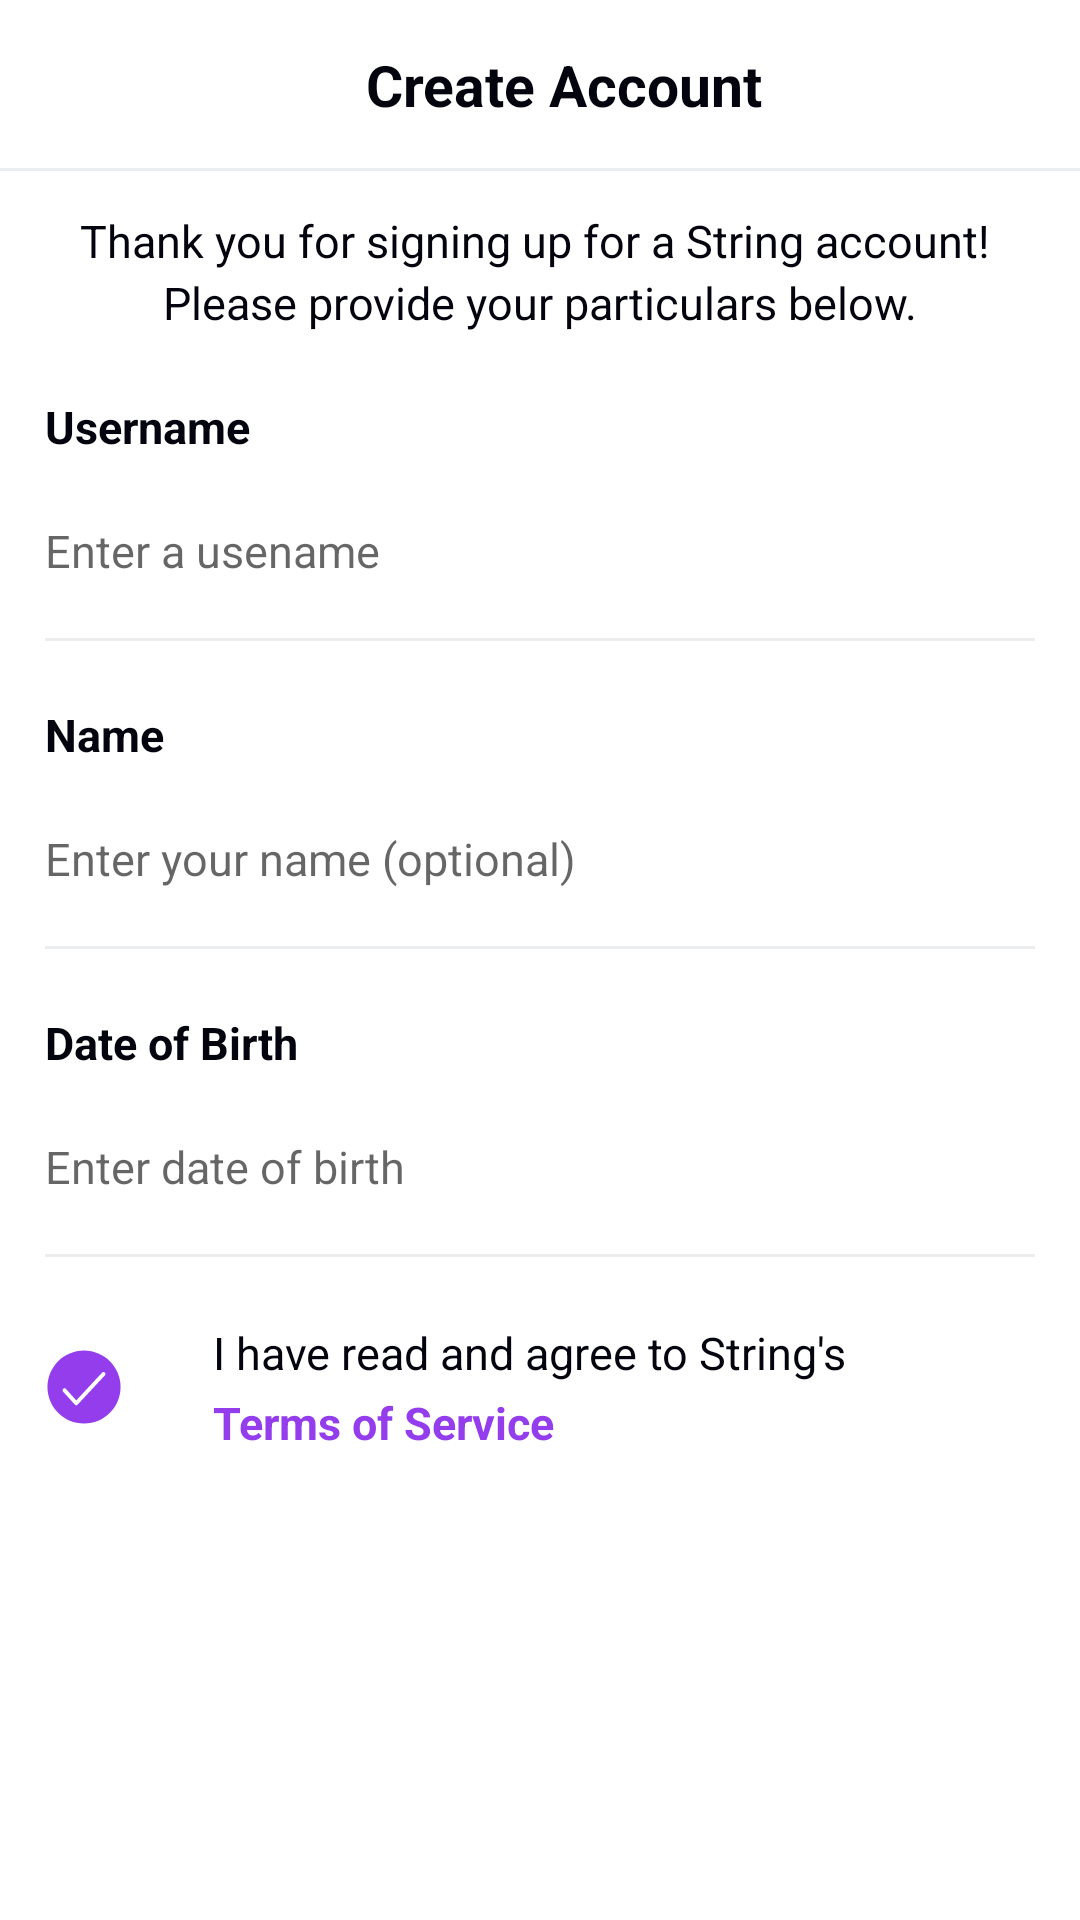

Named icons in this screenshot (1080 x 1920) and their bounding boxes, (x1=x1, y1=y1, x2=x2, y2=y2):
checkbox: (x1=47, y1=1350, x2=121, y2=1424)
